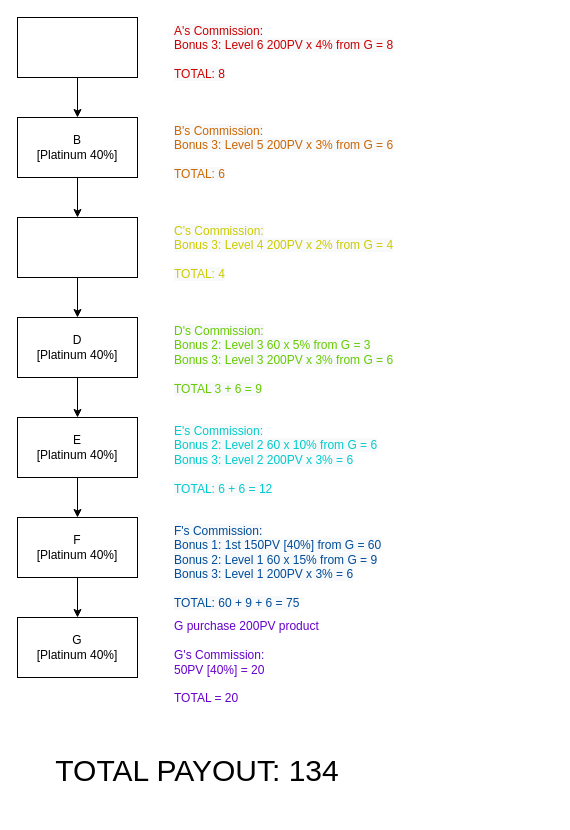
This 570x830 diagram has some shape labels left out. The centre of each missing label's shape, as x and y in pixels:
"A [Platinum 40%]" goes at (77,47).
"C [Platinum 40%]" goes at (77,247).
